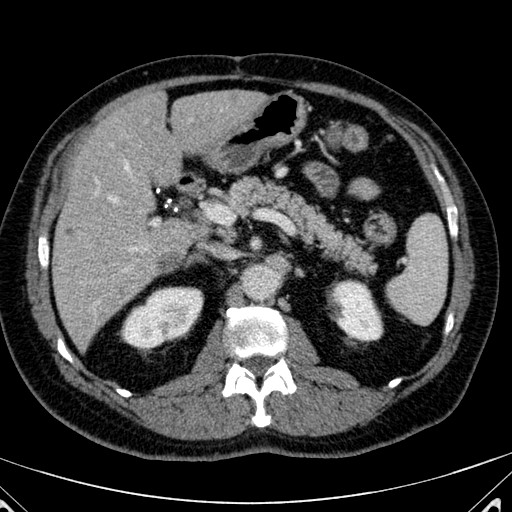clipe: (155, 187, 160, 193), (173, 206, 178, 212), (163, 202, 168, 208), (166, 198, 172, 203)
